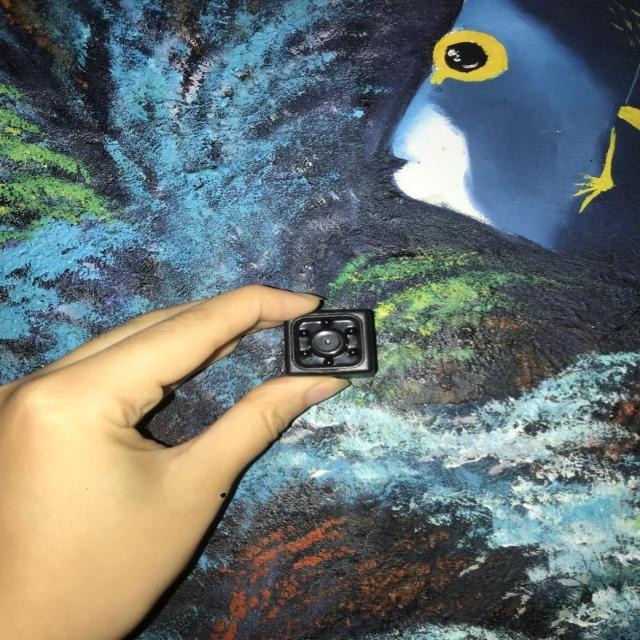hidden camera: (312, 330, 343, 354)
